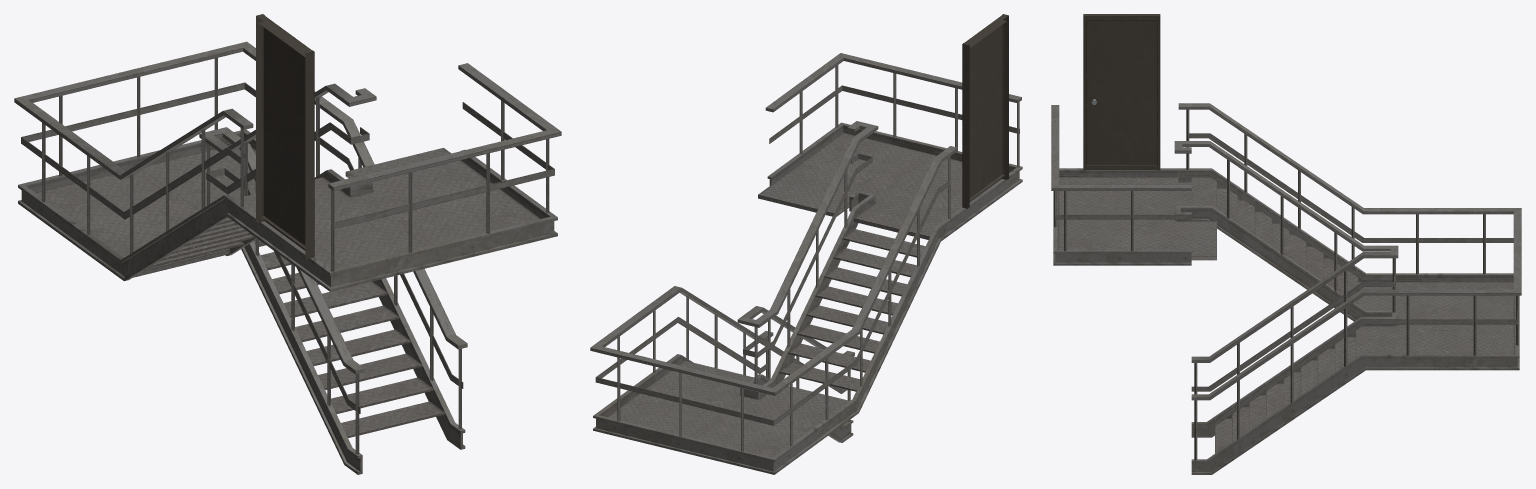
File: jctBldStairA.fbx
The picture shows the model from 3 angles, left to right: view 1: azimuth 30°, elevation 25°; view 2: azimuth 150°, elevation 25°; view 3: azimuth 270°, elevation 25°; orthographic projection. The views are drawn at different scales.
Parts seen in each view (by area): view 1: jctBldStairA; view 2: jctBldStairA; view 3: jctBldStairA.
Part boxes in pixels (x1,y1,x2,y2): jctBldStairA: [14, 14, 561, 474]; jctBldStairA: [590, 14, 1022, 474]; jctBldStairA: [1051, 14, 1521, 474].
Size of the model in its own units: 261 by 540 by 611.
